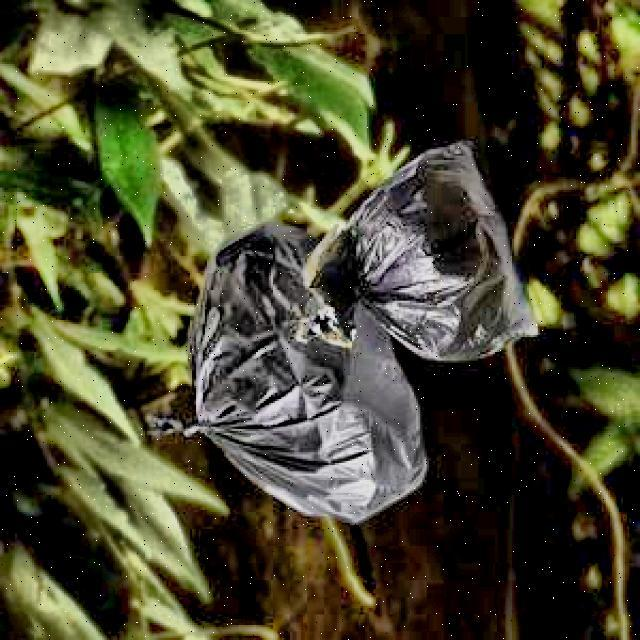Trashbag: (286, 134, 544, 368)
